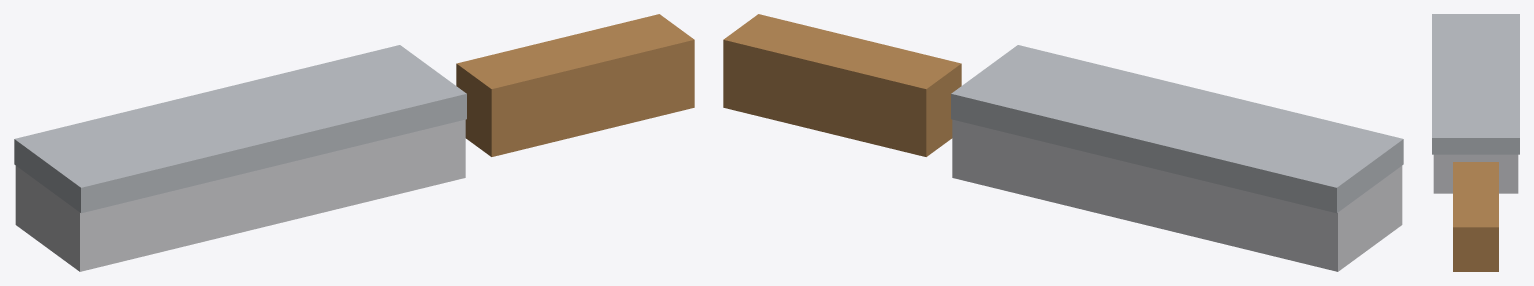
Rendered from huaiyang_tool_knife.glb.
3 views of the same model, side by side, from view 1: azimuth 30°, elevation 25°; view 2: azimuth 150°, elevation 25°; view 3: azimuth 270°, elevation 25° (orthographic). The views are drawn at different scales.
Size of the model in its own units: 0.31 by 0.04 by 0.057.
